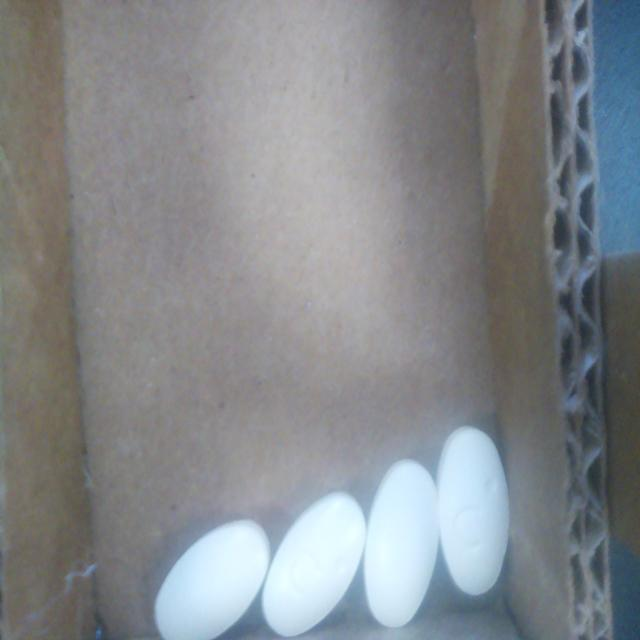pill: (262, 492, 366, 637), (154, 520, 270, 640), (363, 460, 440, 627), (437, 426, 509, 595)
